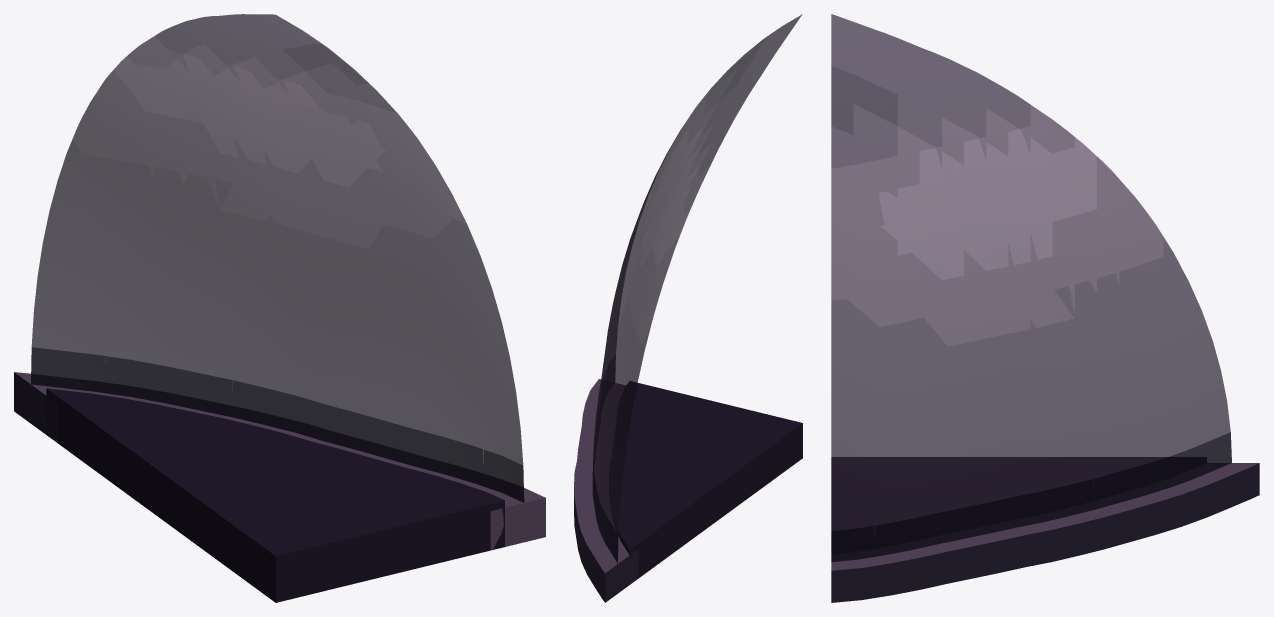
Rendered from purple_dome_tr.glb.
3 renders of one model, left to right at view 1: azimuth 30°, elevation 25°; view 2: azimuth 150°, elevation 25°; view 3: azimuth 270°, elevation 25°, orthographic. The views are drawn at different scales.
Parts seen in each view (by area): view 1: purple_dome_tr_glassshell, purple_dome_tr_floor, purple_dome_tr_collar; view 2: purple_dome_tr_floor, purple_dome_tr_glassshell, purple_dome_tr_collar; view 3: purple_dome_tr_glassshell, purple_dome_tr_collar, purple_dome_tr_floor.
Part boxes in pixels (x1,y1,x2,y2): purple_dome_tr_glassshell: (31,14,524,502); purple_dome_tr_floor: (46,388,504,602); purple_dome_tr_collar: (14,372,545,550); purple_dome_tr_floor: (609,381,802,578); purple_dome_tr_glassshell: (592,14,802,563); purple_dome_tr_collar: (574,379,638,602); purple_dome_tr_glassshell: (831,14,1231,562); purple_dome_tr_collar: (831,463,1259,602); purple_dome_tr_floor: (831,457,1205,552).
Bounding box in the file's own units: 11.51 × 23.95 × 19.32.
